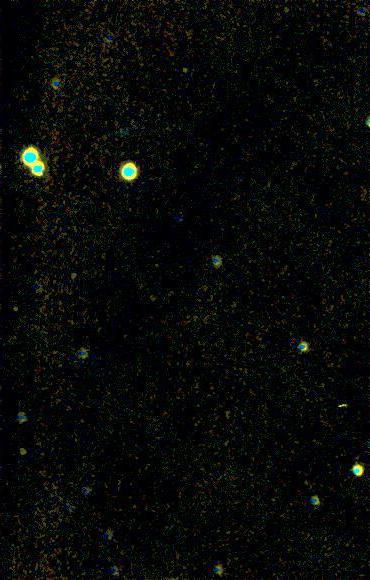star: (173, 52, 203, 82)
